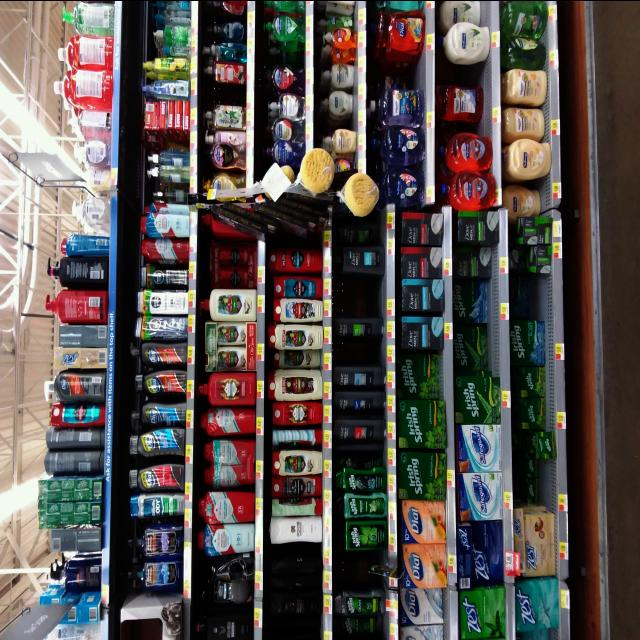empty_space: (340, 278, 380, 312), (342, 553, 380, 585), (516, 280, 549, 311)
